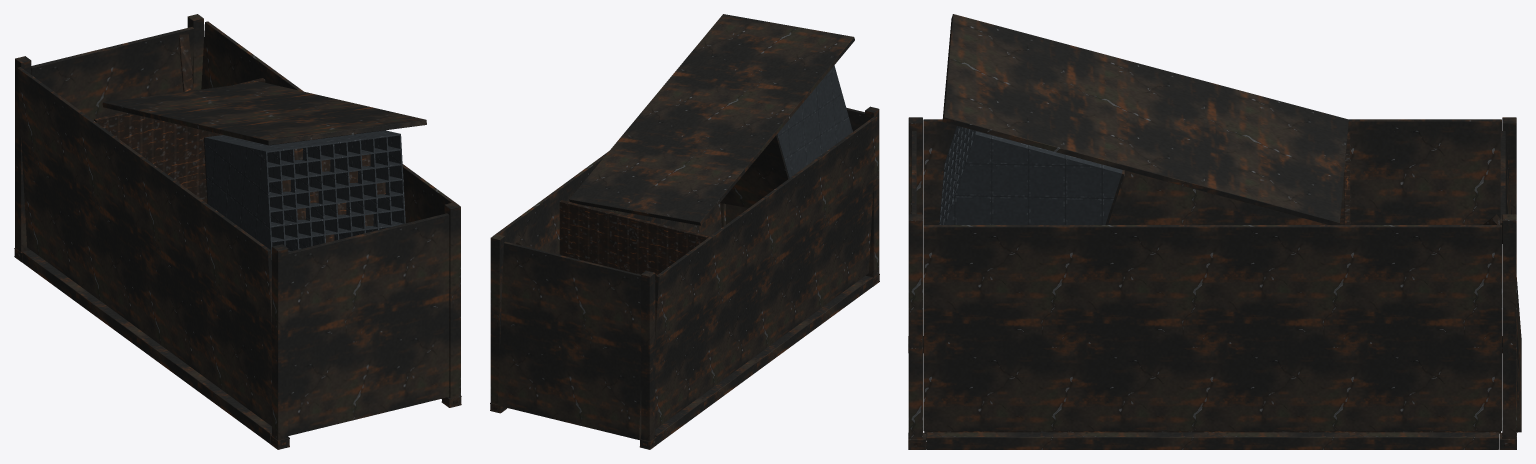
Rendered from vgd_wasp_hive_container_wreck.glb.
3 views of the same model, side by side, from view 1: azimuth 30°, elevation 25°; view 2: azimuth 150°, elevation 25°; view 3: azimuth 270°, elevation 25° (orthographic). The views are drawn at different scales.
Visible parts, largest first — view 1: Wreck_Charred_Hull, Wreck_Steel_Tubes, Wreck_Burnt_Interior; view 2: Wreck_Charred_Hull, Wreck_Burnt_Interior, Wreck_Steel_Tubes; view 3: Wreck_Charred_Hull, Wreck_Steel_Tubes, Wreck_Burnt_Interior.
Part boxes in pixels (<box>): Wreck_Charred_Hull: <box>14,14,461,449</box>; Wreck_Steel_Tubes: <box>204,130,405,264</box>; Wreck_Burnt_Interior: <box>16,34,457,445</box>; Wreck_Charred_Hull: <box>490,14,879,449</box>; Wreck_Burnt_Interior: <box>493,200,877,446</box>; Wreck_Steel_Tubes: <box>777,65,852,177</box>; Wreck_Charred_Hull: <box>908,14,1521,449</box>; Wreck_Steel_Tubes: <box>939,126,1122,224</box>; Wreck_Burnt_Interior: <box>913,132,1511,446</box>.
Bounding box in the file's own units: 2.53 × 3.71 × 6.1.
3 materials, 3 textured.
